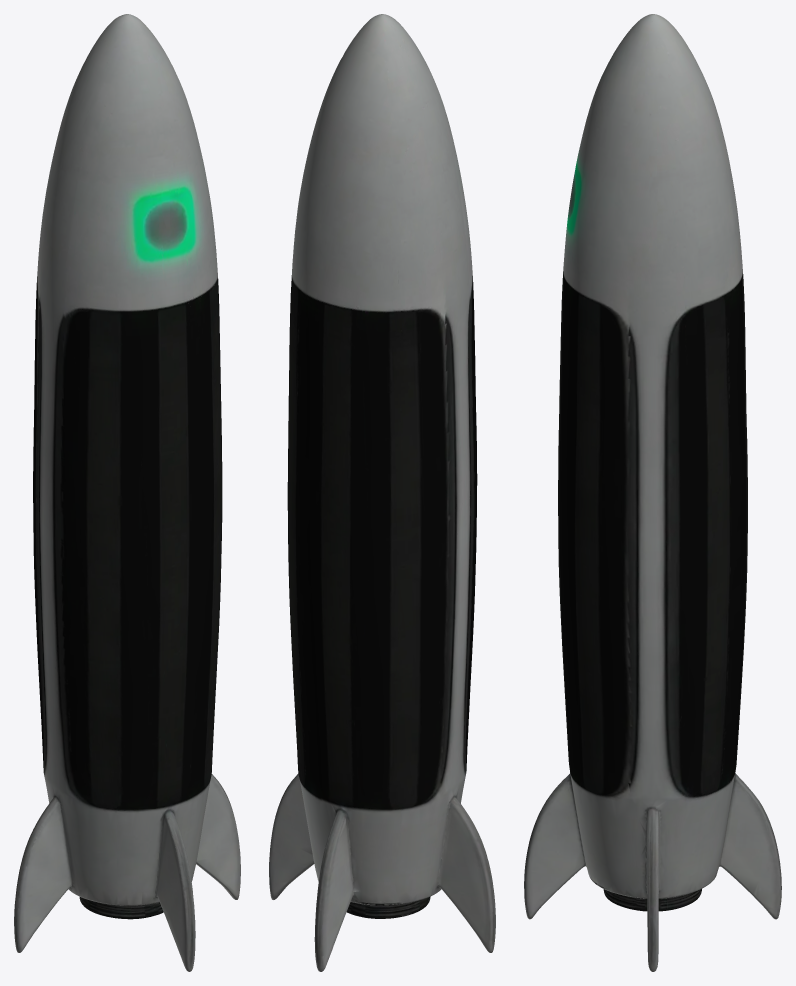
The model's file is rocket.glb.
The picture shows the model from 3 angles, left to right: view 1: azimuth 30°, elevation 25°; view 2: azimuth 150°, elevation 25°; view 3: azimuth 270°, elevation 25°; orthographic projection.
Parts seen in each view (by area): view 1: mesh; view 2: mesh; view 3: mesh.
Boxes of the visible parts, x1,y1,x2,y2 form: mesh: [14, 14, 240, 971]; mesh: [269, 14, 495, 971]; mesh: [524, 14, 781, 971].
Bounding box in the file's own units: 0.5177 × 2 × 0.5164.
Materials: 1 (1 with a texture image).
